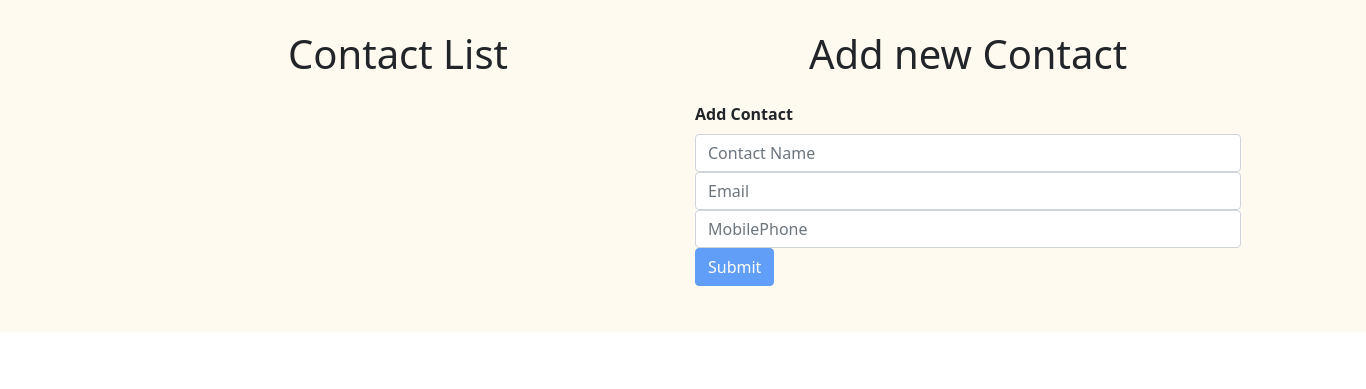
it: UI Validation › email validation
Type "moises.com" into the field with test id "email-input".
click(968, 191); type("moises.com")  # box [695,172,1241,210]
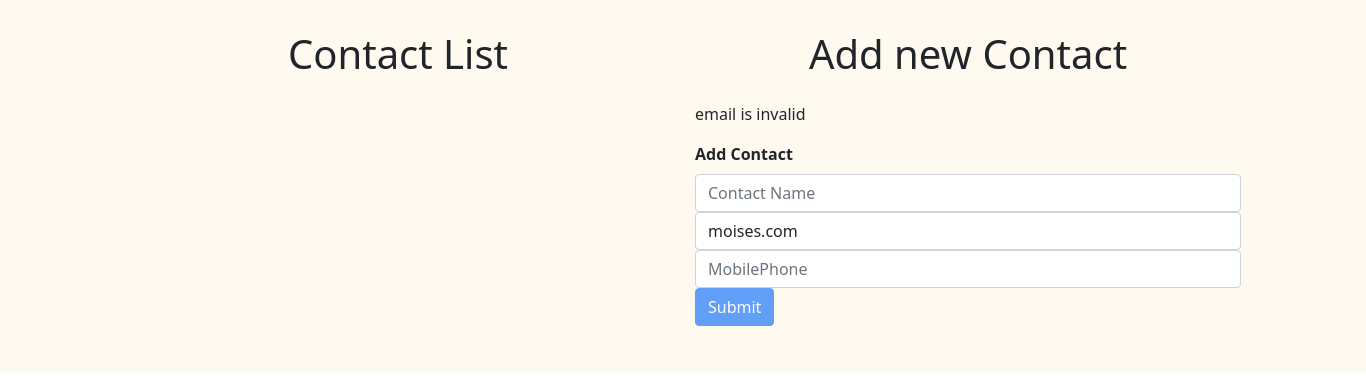
expect the text "email is invalid" is shown: met, box [695,103,806,125]
